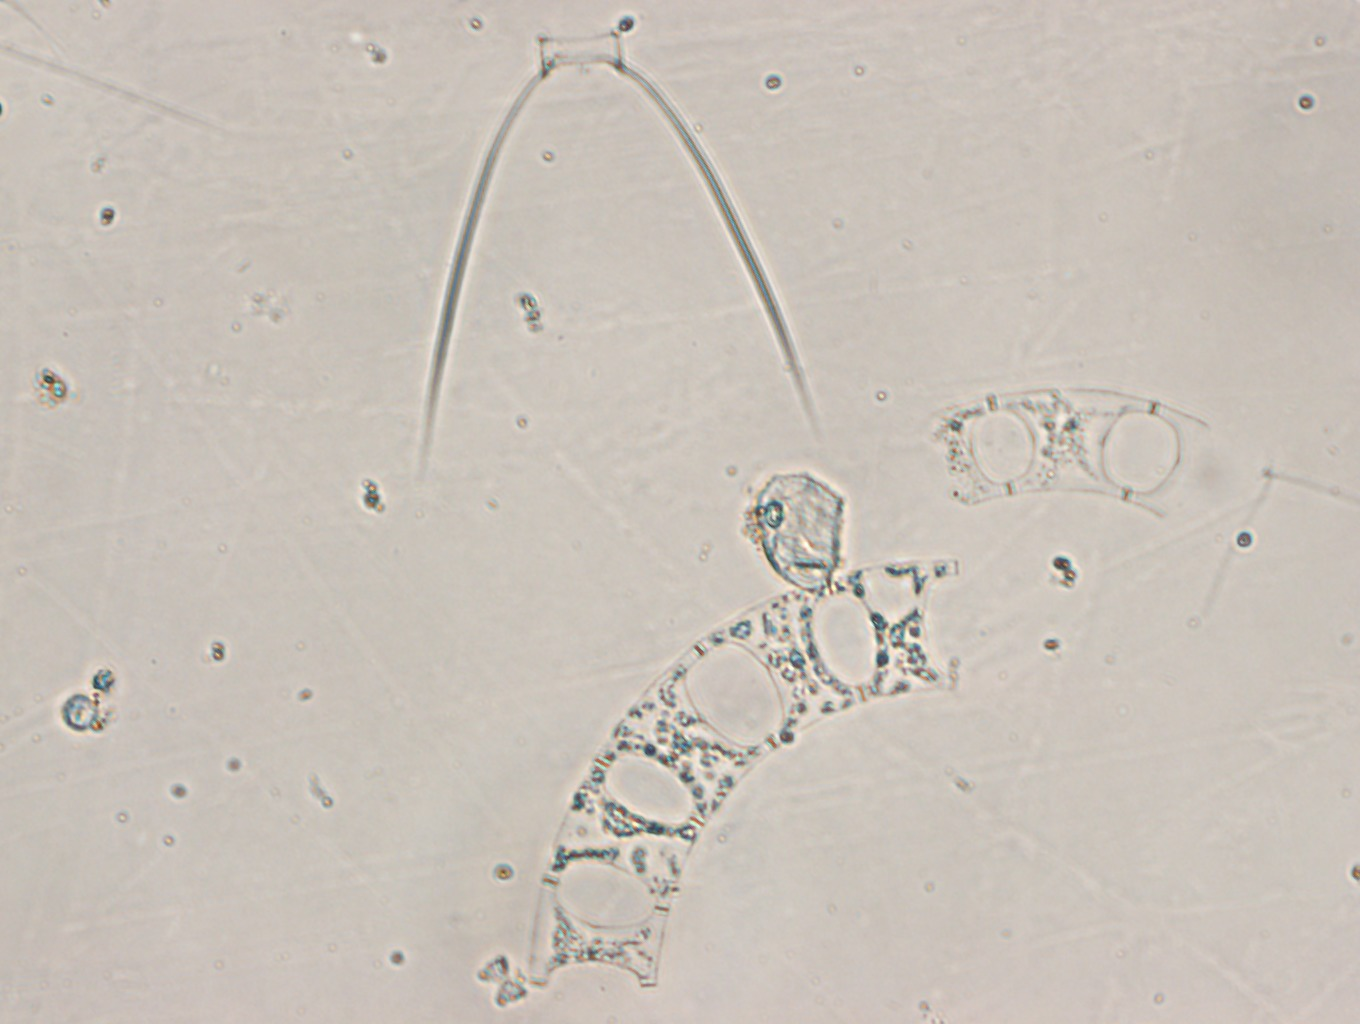chaetoceros: (419, 28, 826, 463)
eucampia: (532, 560, 958, 991), (930, 388, 1213, 520)
